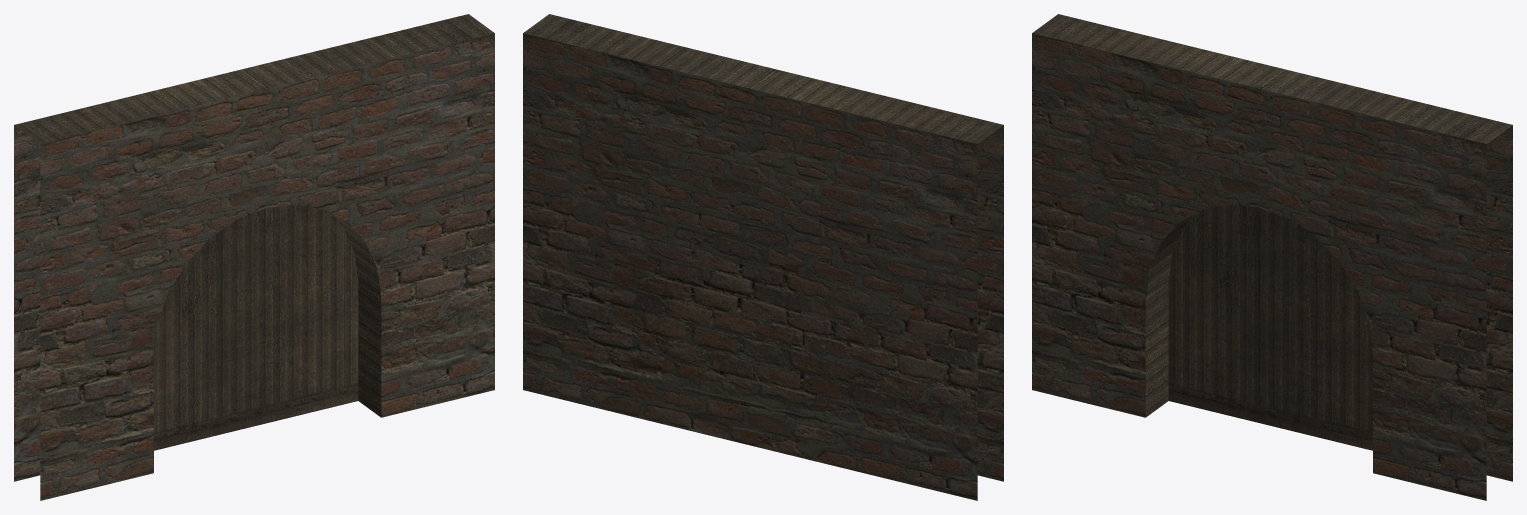
File: wall_hr_15.obj
The picture shows the model from 3 angles, left to right: view 1: azimuth 30°, elevation 25°; view 2: azimuth 150°, elevation 25°; view 3: azimuth 330°, elevation 25°; orthographic projection.
Visible parts, largest first — view 1: wall_hr_15; view 2: wall_hr_15; view 3: wall_hr_15.
Boxes of the visible parts, box(x1,y1,x2,y2) form: wall_hr_15: box(14, 14, 494, 500); wall_hr_15: box(523, 14, 1003, 500); wall_hr_15: box(1032, 14, 1512, 500).
Bounding box in the file's own units: 4 × 3 × 0.4.
